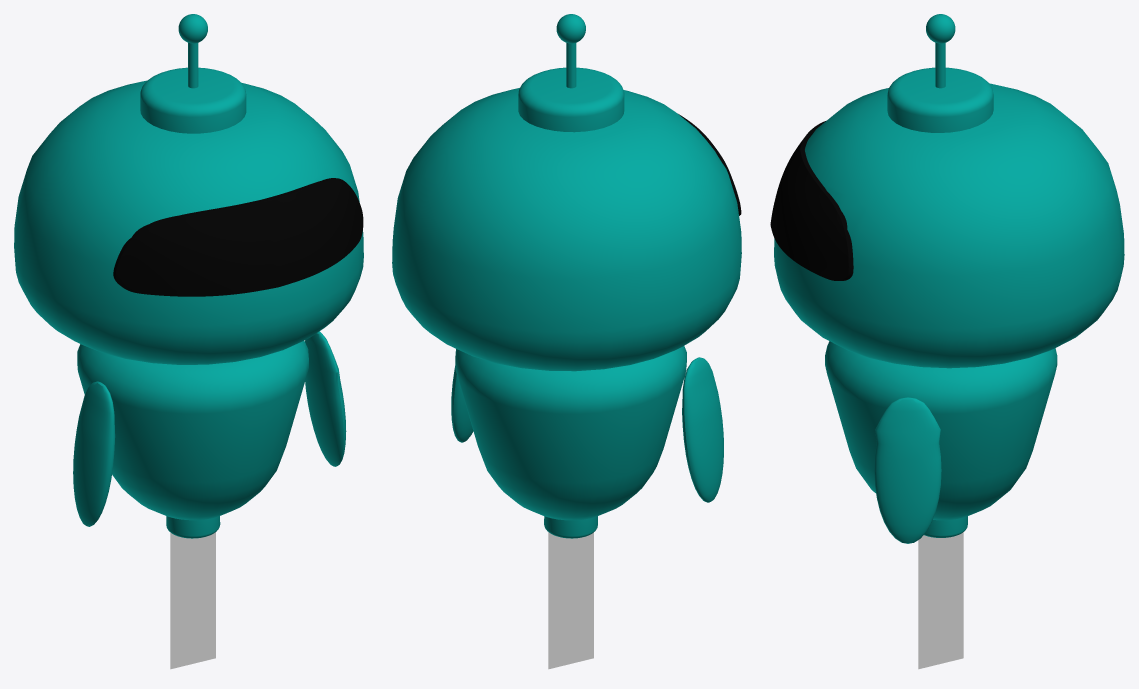
Rendered from cleaned_beepie.glb.
The picture shows the model from 3 angles, left to right: view 1: azimuth 30°, elevation 25°; view 2: azimuth 150°, elevation 25°; view 3: azimuth 270°, elevation 25°; orthographic projection.
Parts seen in each view (by area): view 1: Sphere.002, Cylinder.004, display glass, thruster_plane_1, Sphere.005, Sphere.001, Sphere.003, Sphere.007, Sphere.009; view 2: Sphere.002, Cylinder.004, thruster_plane_2, Sphere.005, Sphere.001, Sphere.007, Sphere.003, Sphere.009; view 3: Sphere.002, Cylinder.004, Sphere.003, display glass, thruster_plane_3, Sphere.005, Sphere.007, Sphere.009.
Part boxes in pixels (bbox=[...]): Sphere.002: bbox=[14, 80, 363, 364]; Cylinder.004: bbox=[77, 341, 308, 520]; display glass: bbox=[113, 178, 363, 296]; thruster_plane_1: bbox=[170, 532, 215, 669]; Sphere.005: bbox=[140, 67, 246, 133]; Sphere.001: bbox=[73, 381, 115, 526]; Sphere.003: bbox=[305, 331, 346, 466]; Sphere.007: bbox=[178, 14, 207, 88]; Sphere.009: bbox=[166, 516, 220, 538]; Sphere.002: bbox=[392, 88, 741, 371]; Cylinder.004: bbox=[455, 346, 686, 520]; thruster_plane_2: bbox=[548, 532, 593, 669]; Sphere.005: bbox=[518, 67, 624, 132]; Sphere.001: bbox=[682, 357, 723, 502]; Sphere.007: bbox=[556, 14, 585, 88]; Sphere.003: bbox=[451, 366, 473, 442]; Sphere.009: bbox=[544, 516, 597, 538]; Sphere.002: bbox=[774, 83, 1124, 368]; Cylinder.004: bbox=[825, 341, 1057, 520]; Sphere.003: bbox=[874, 397, 941, 543]; display glass: bbox=[770, 121, 853, 280]; thruster_plane_3: bbox=[918, 532, 963, 669]; Sphere.005: bbox=[887, 67, 993, 132]; Sphere.007: bbox=[926, 14, 955, 88]; Sphere.009: bbox=[924, 516, 967, 537].
Size of the model in its own units: 1.98 by 4.05 by 2.
